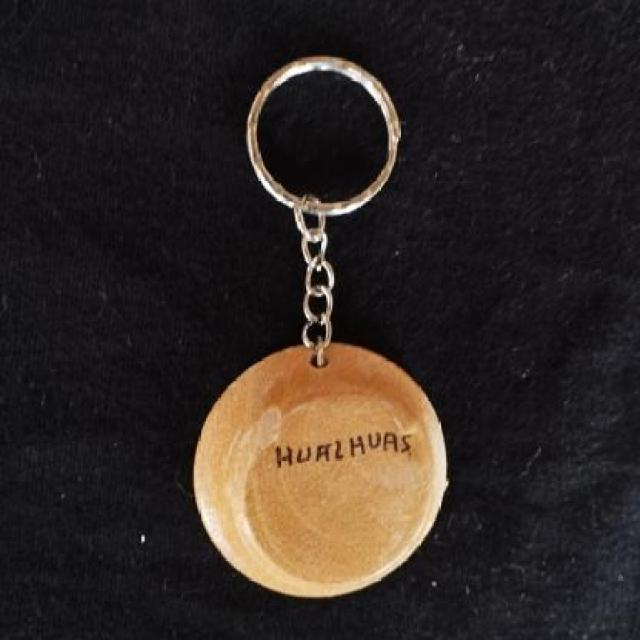Llavero: (192, 341, 450, 599)
